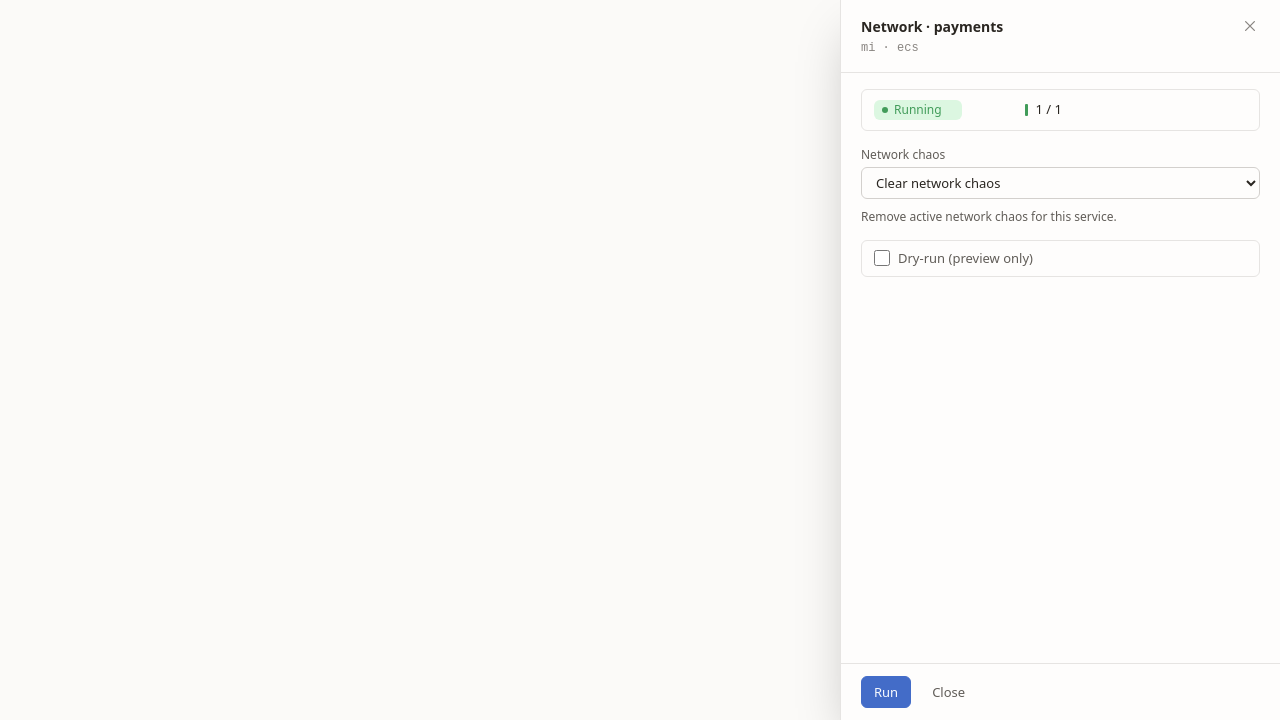
Test: <ChaosDrawer mode=network/> (ecs) › blackhole shows a CIDR field and posts it (dry-run sends dryRun:true)
Select "Blackhole CIDR" in the dropdown labelled "Network chaos" at (1060,183), box [861,167,1260,199]
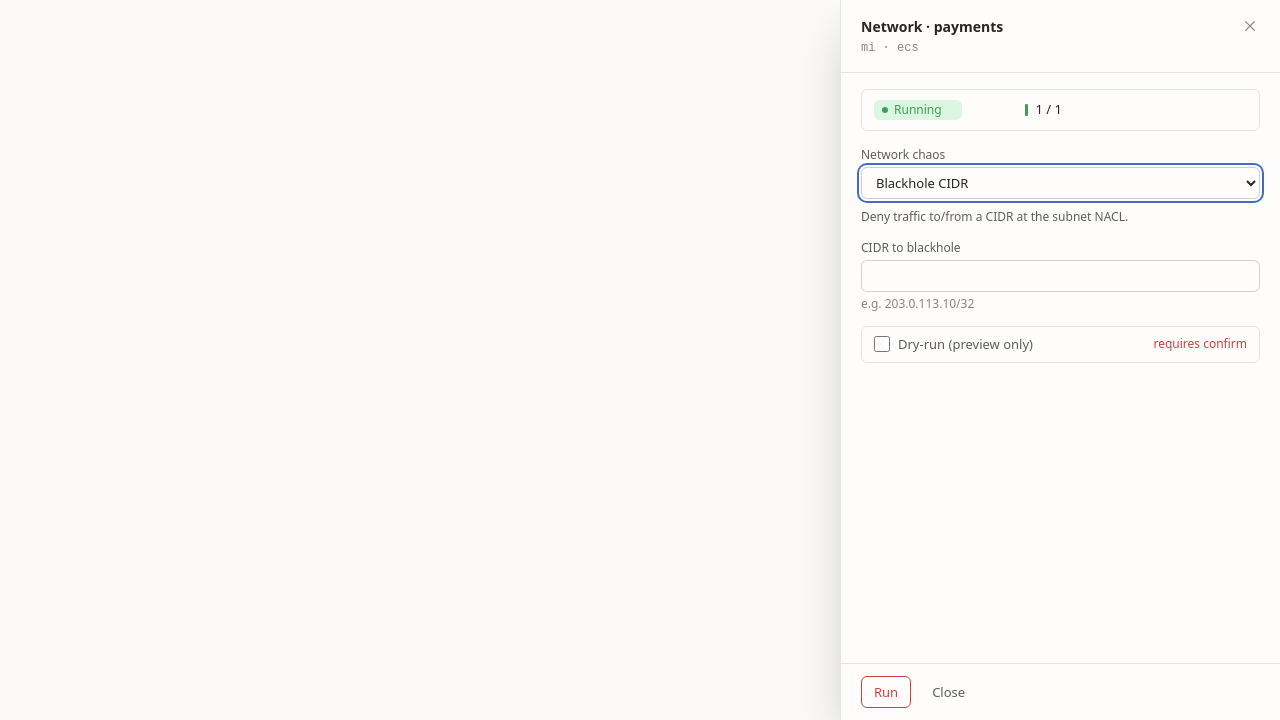
Type "203.0.113.10/32" into the field labelled "CIDR to blackhole".
click(1060, 276); type("203.0.113.10/32")  # box [861,260,1260,292]
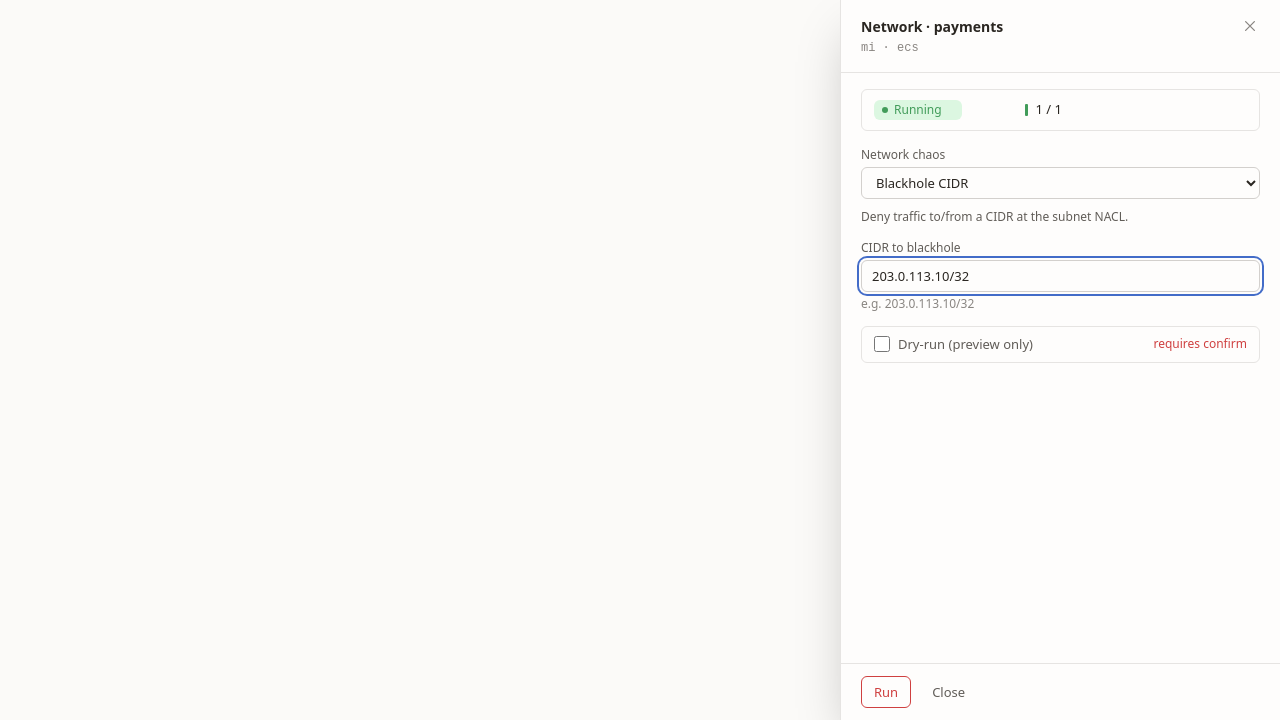
Click the checkbox labelled "Dry-run (preview only)".
click(882, 344)  # box [874,336,890,352]
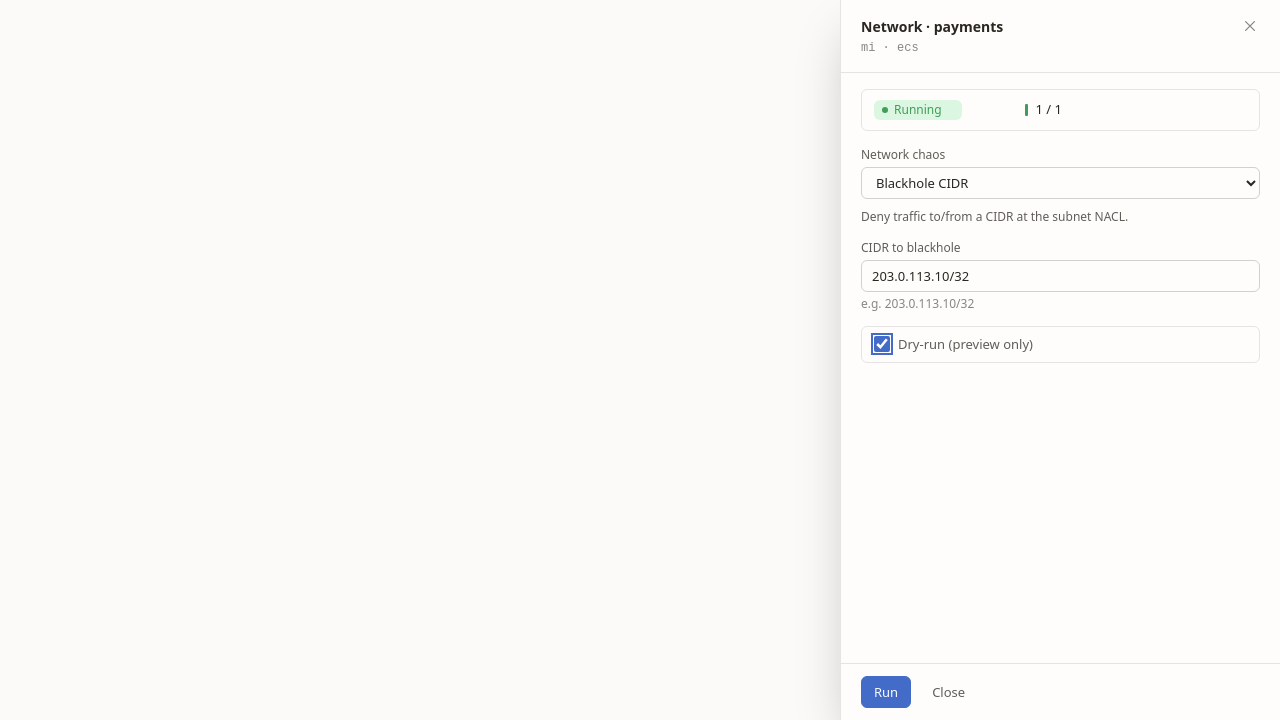
Click the button "Run".
click(886, 692)  # box [861,676,911,708]
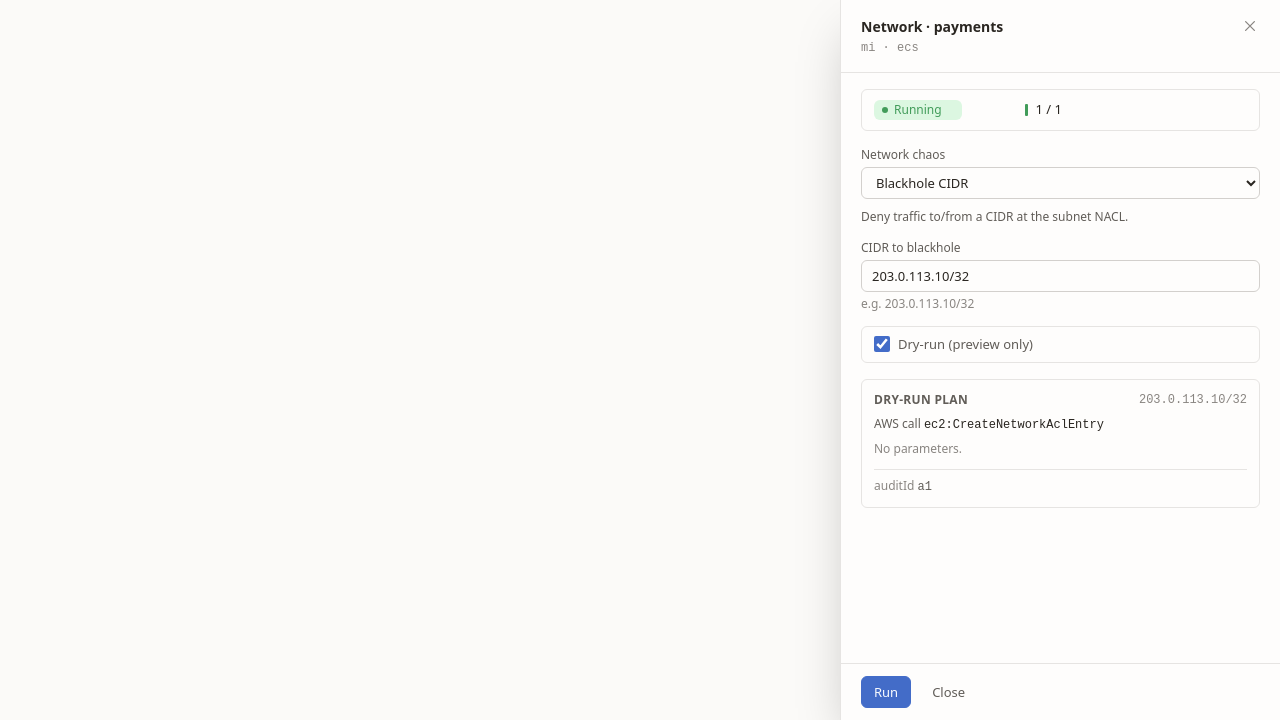
Expected: the text "ec2:CreateNetworkAclEntry" is shown, [924,418,1104,432]
Expected: the text "a1" is shown, [918,480,932,494]
